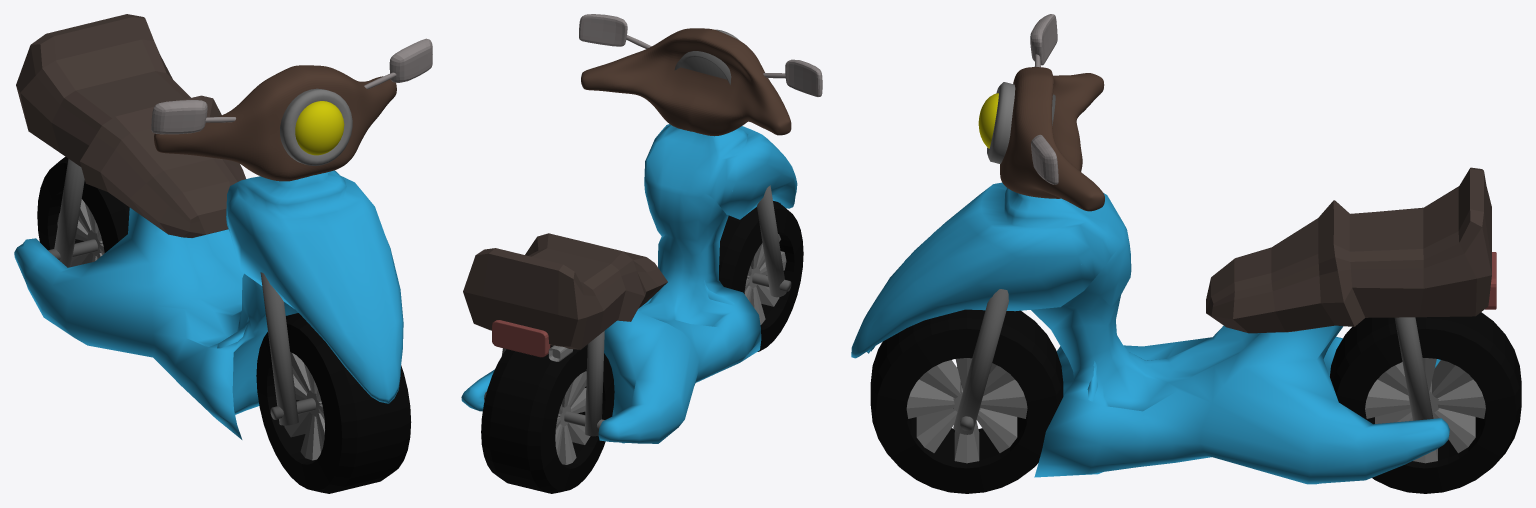
The model's file is motorcycle.fbx.
3 views of the same model, side by side, from view 1: azimuth 30°, elevation 25°; view 2: azimuth 150°, elevation 25°; view 3: azimuth 270°, elevation 25° (orthographic). The views are drawn at different scales.
Parts seen in each view (by area): view 1: body, head, f_wheel, b_wheel; view 2: body, head, b_wheel, f_wheel; view 3: body, f_wheel, b_wheel, head.
Part boxes in pixels (x1=…): body: x1=14, y1=14, x2=403, y2=439; head: x1=151, y1=38, x2=432, y2=181; f_wheel: x1=256, y1=313, x2=411, y2=493; b_wheel: x1=37, y1=156, x2=129, y2=267; body: x1=461, y1=124, x2=797, y2=443; head: x1=579, y1=14, x2=822, y2=136; b_wheel: x1=481, y1=344, x2=614, y2=493; f_wheel: x1=719, y1=201, x2=803, y2=351; body: x1=851, y1=167, x2=1496, y2=484; f_wheel: x1=870, y1=309, x2=1063, y2=493; b_wheel: x1=1330, y1=312, x2=1521, y2=493; head: x1=978, y1=14, x2=1104, y2=211.
Size of the model in its own units: 120 by 80.22 by 60.72.
